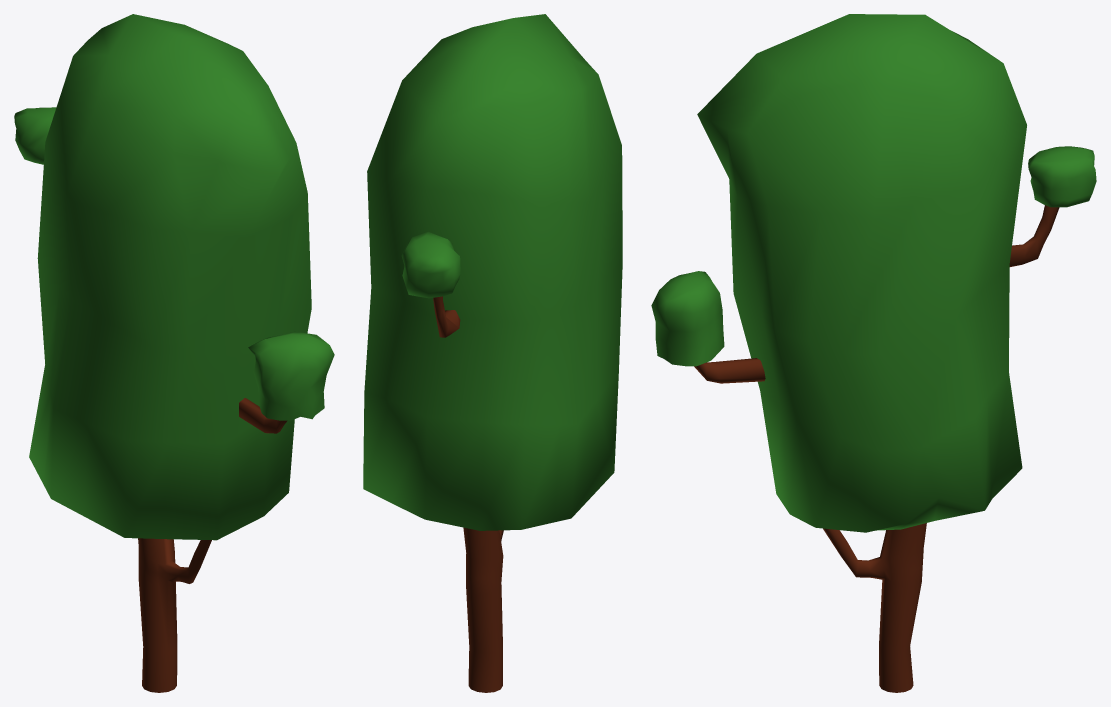
Rendered from Tree2.fbx.
3 renders of one model, left to right at view 1: azimuth 30°, elevation 25°; view 2: azimuth 150°, elevation 25°; view 3: azimuth 270°, elevation 25°, orthographic. The views are drawn at different scales.
Parts seen in each view (by area): view 1: Tree2; view 2: Tree2; view 3: Tree2.
Boxes of the visible parts, x1,y1,x2,y2 form: Tree2: (14, 14, 334, 692); Tree2: (363, 14, 622, 692); Tree2: (651, 14, 1096, 692).
Bounding box in the file's own units: 344 × 1034 × 623.
